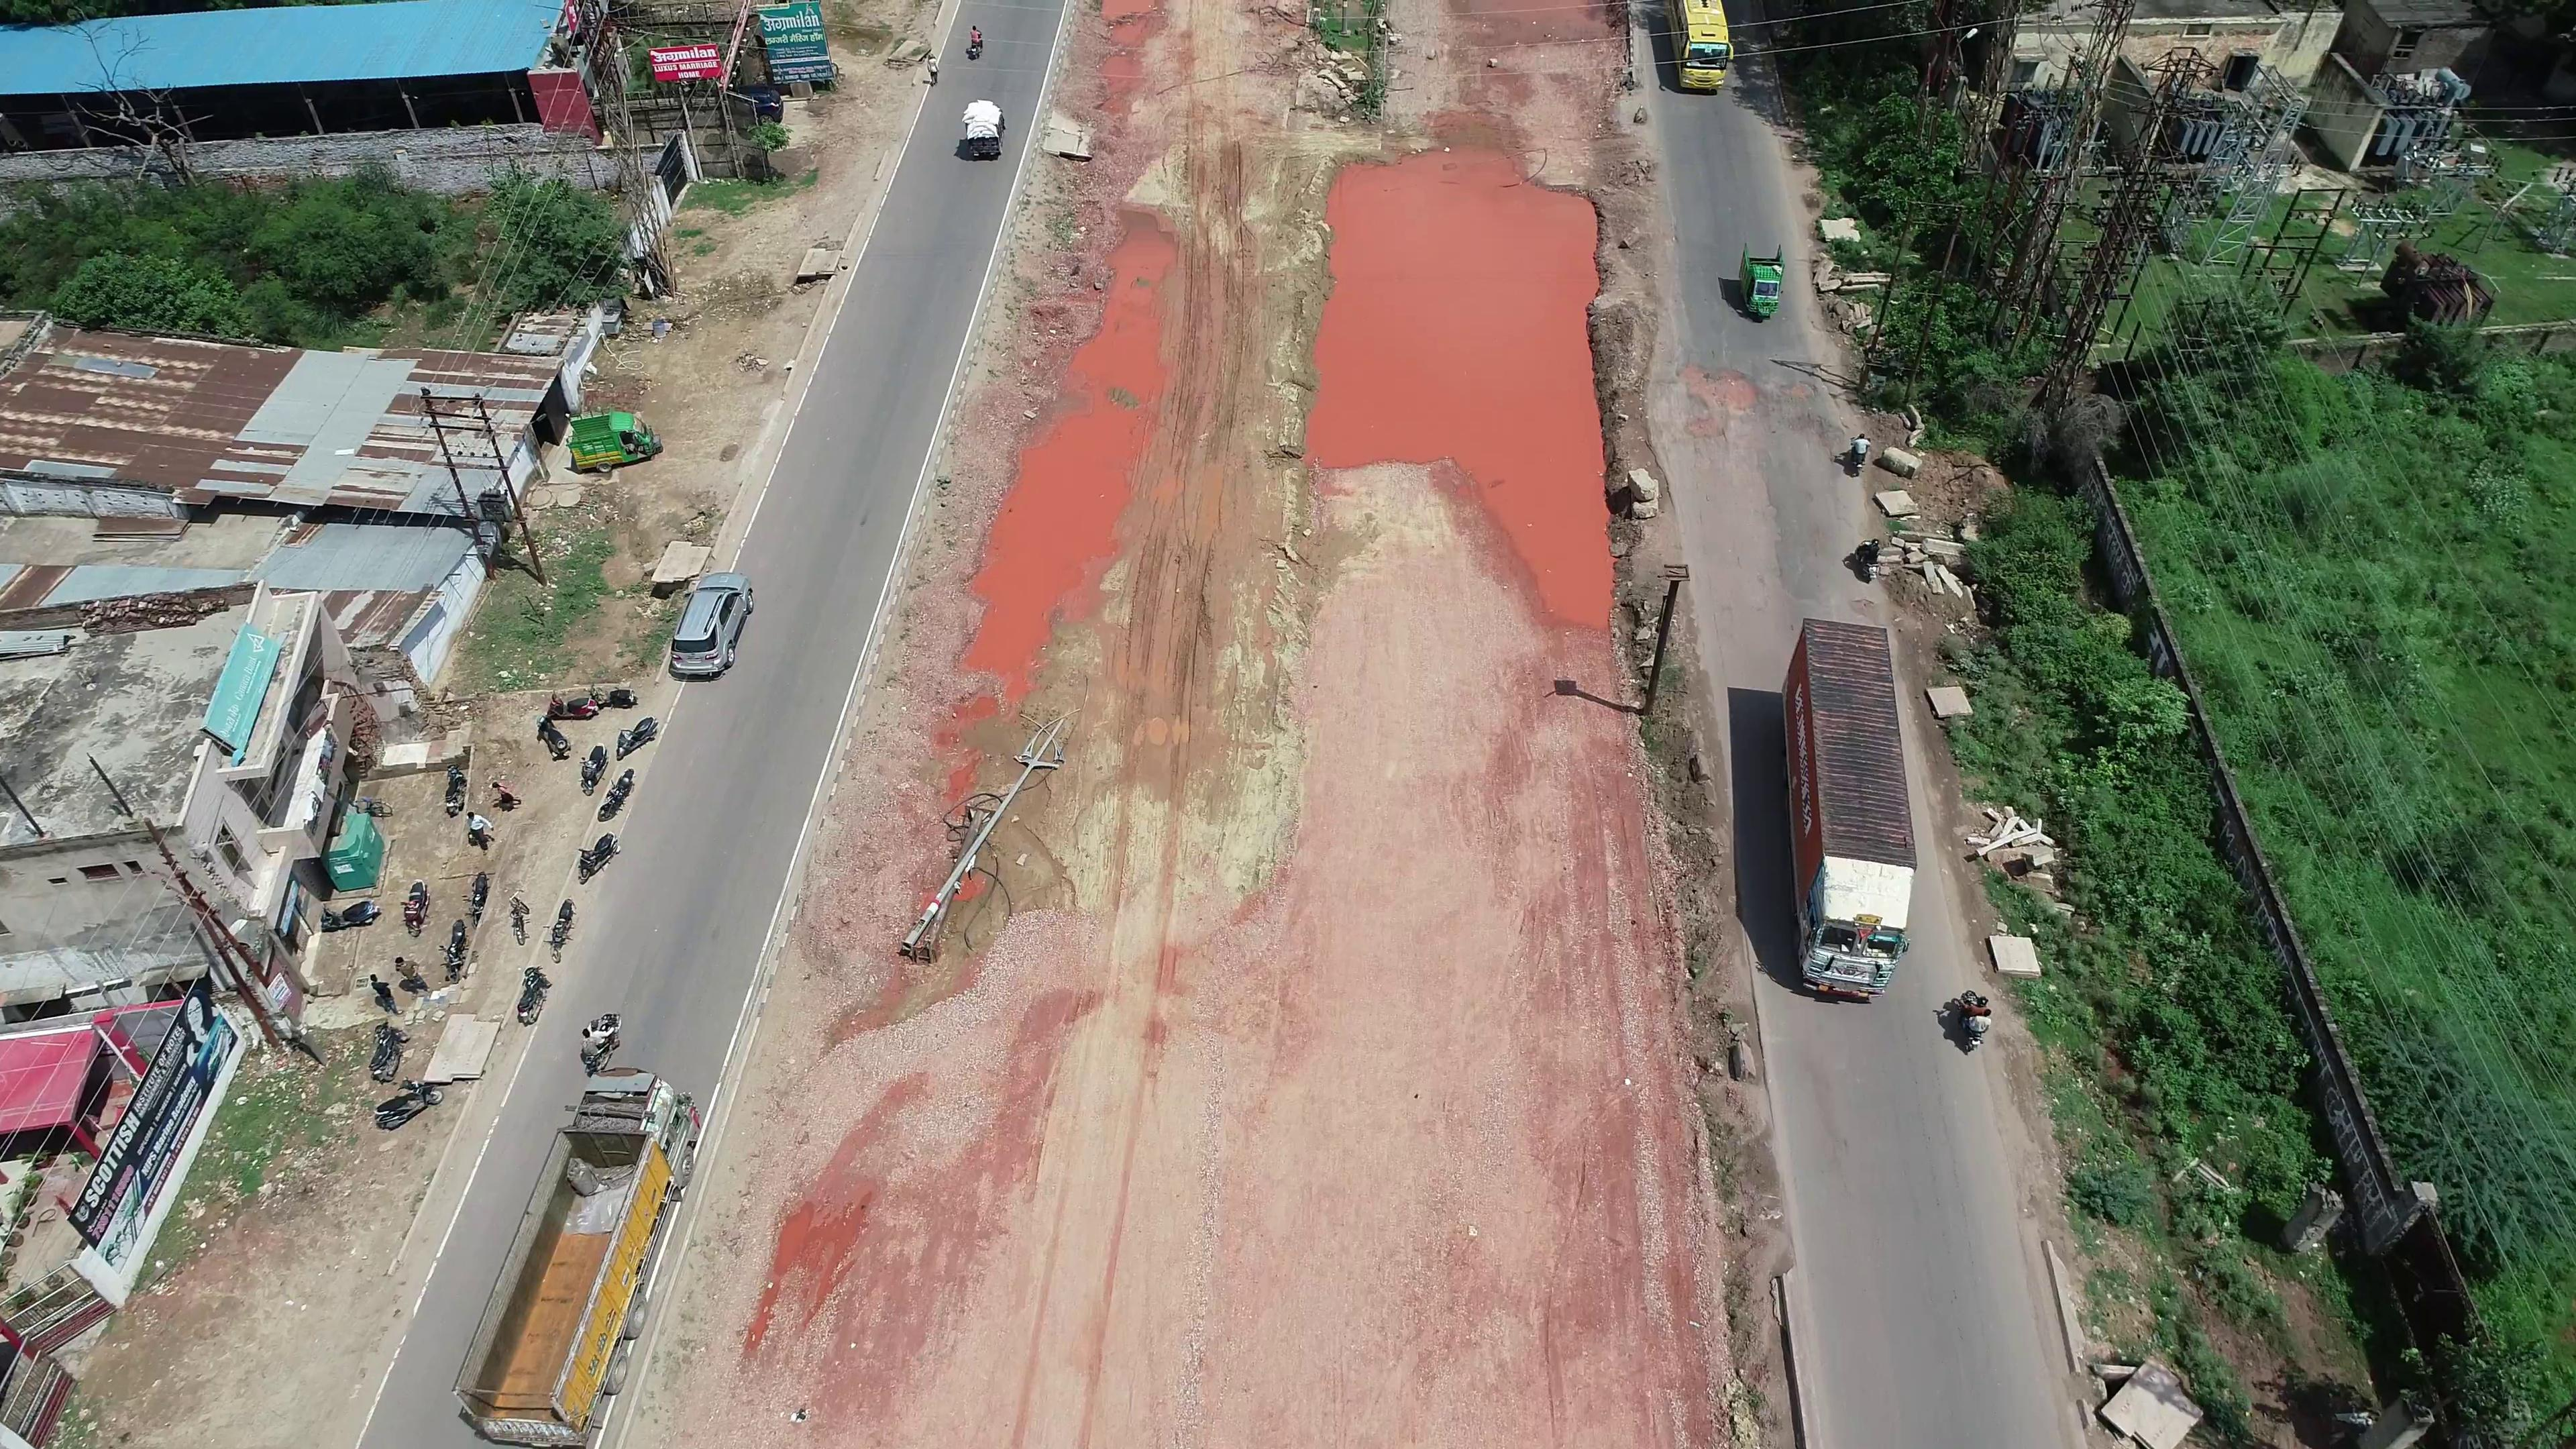Potholes: (1674, 336, 1822, 444)
